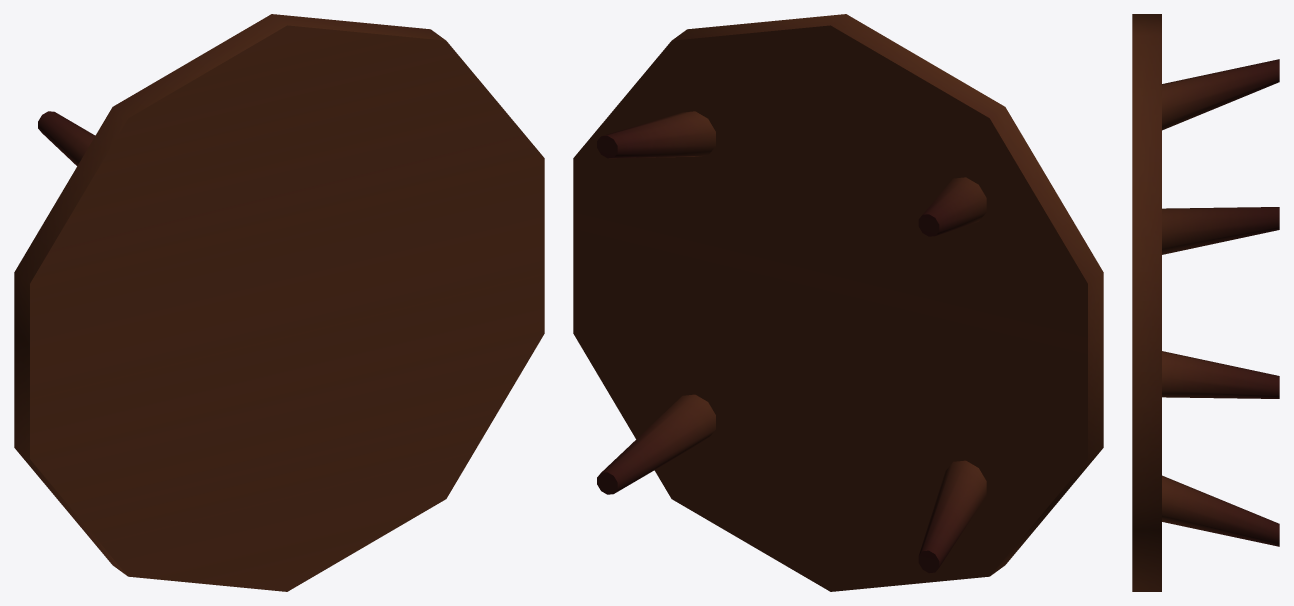
File: CoffeeTable.fbx
3 views of the same model, side by side, from view 1: azimuth 30°, elevation 25°; view 2: azimuth 150°, elevation 25°; view 3: azimuth 270°, elevation 25° (orthographic). The views are drawn at different scales.
Parts seen in each view (by area): view 1: CoffeeTable; view 2: CoffeeTable; view 3: CoffeeTable.
Boxes of the visible parts, x1,y1,x2,y2 form: CoffeeTable: (14, 14, 544, 591); CoffeeTable: (573, 14, 1103, 591); CoffeeTable: (1132, 14, 1279, 591).
Bounding box in the file's own units: 190 × 200 × 50.
